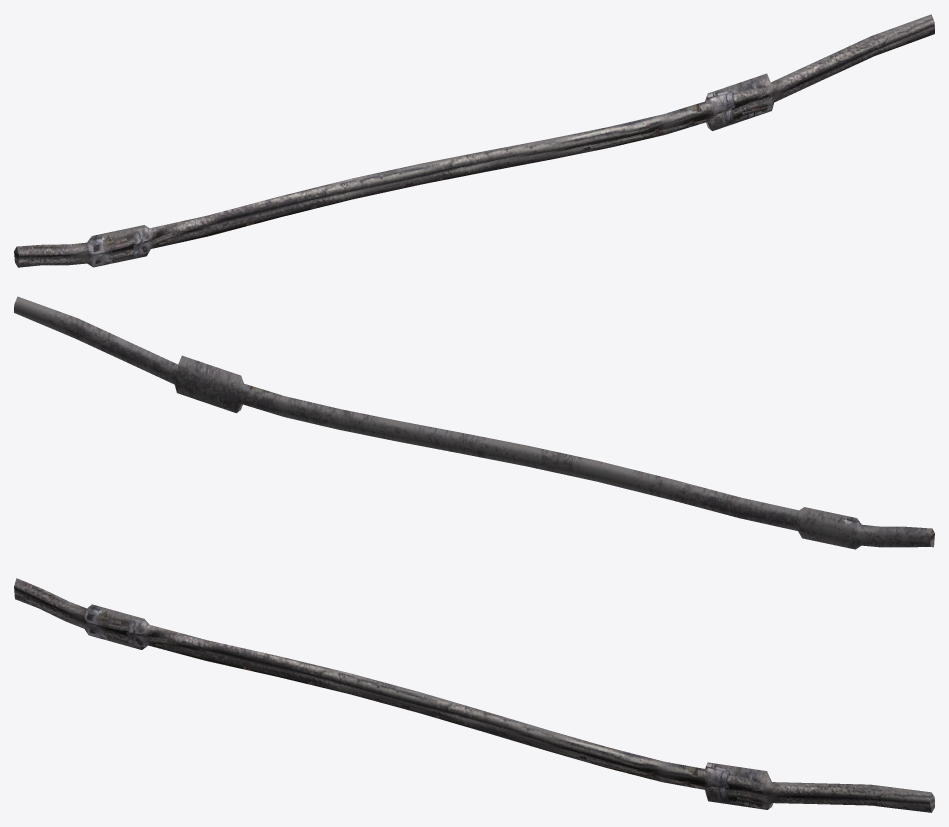
Rendered from plane_wreckage_cable_05.dae.
3 views of the same model, one above another, from view 1: azimuth 30°, elevation 25°; view 2: azimuth 150°, elevation 25°; view 3: azimuth 330°, elevation 25° (orthographic).
Parts seen in each view (by area): view 1: plane_wreckage_cable_05; view 2: plane_wreckage_cable_05; view 3: plane_wreckage_cable_05.
Part boxes in pixels (x1,y1,x2,y2): plane_wreckage_cable_05: (14,14,934,267); plane_wreckage_cable_05: (14,296,934,549); plane_wreckage_cable_05: (14,578,934,812).
Bounding box in the file's own units: 176 × 11.26 × 2.57.
